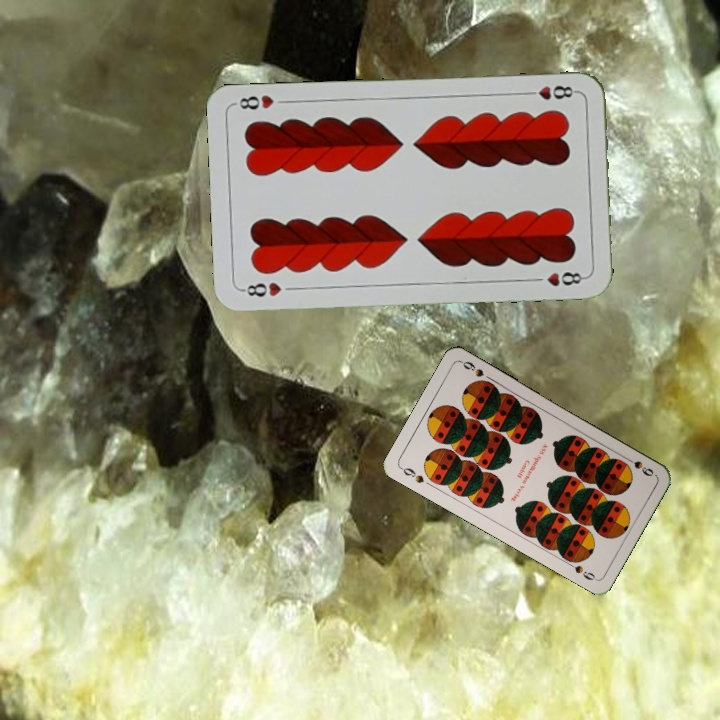H8: (521, 82, 580, 102), (238, 278, 284, 299)
S9: (620, 452, 656, 479), (396, 463, 427, 486)
